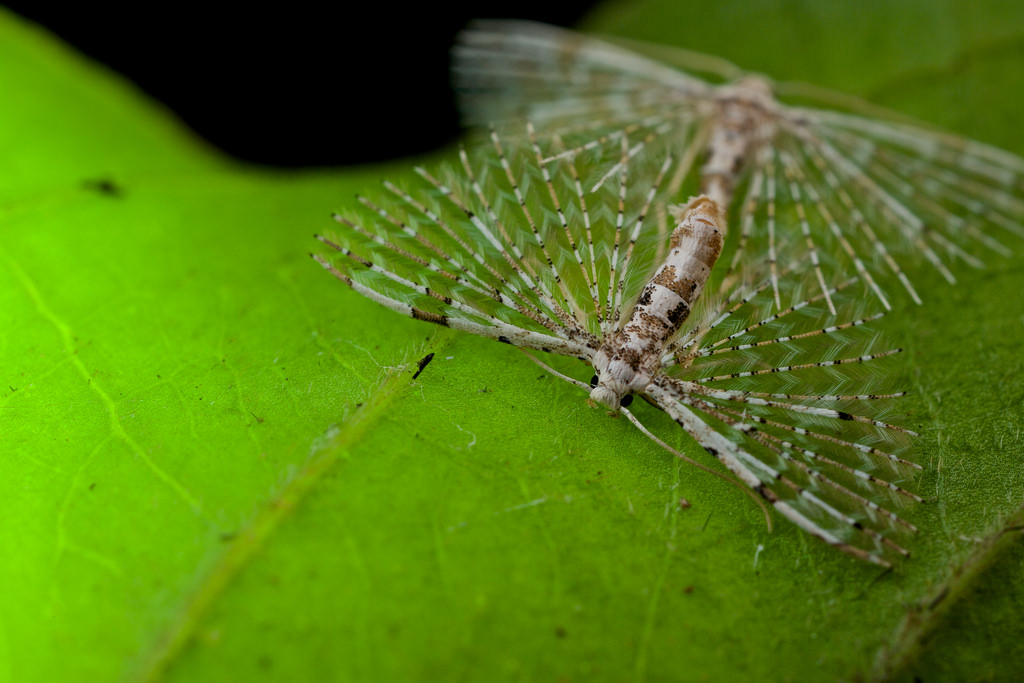Alucitidae: (314, 129, 947, 580)
moth: (312, 127, 945, 578)
